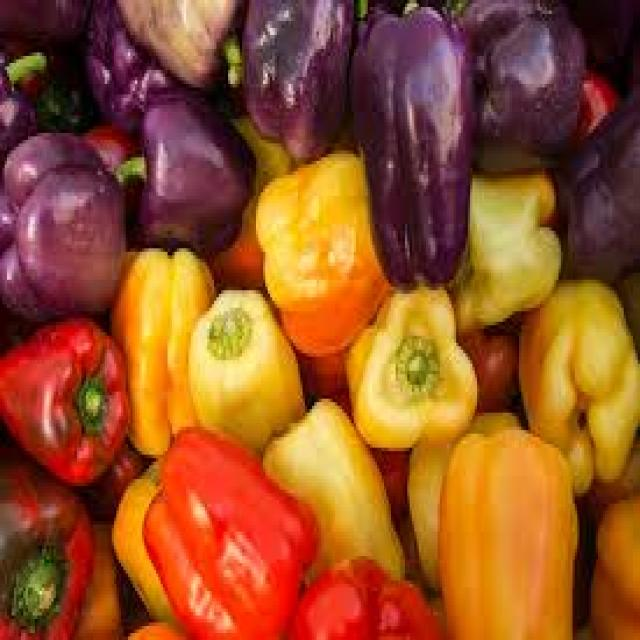Bell pepper: (341, 8, 476, 287), (135, 426, 308, 635), (431, 407, 586, 640), (244, 147, 387, 364), (509, 255, 640, 479), (178, 287, 330, 457), (449, 0, 584, 190), (0, 124, 127, 316), (341, 272, 464, 468), (0, 330, 142, 477), (113, 98, 239, 256), (231, 0, 350, 163), (0, 454, 101, 640)
